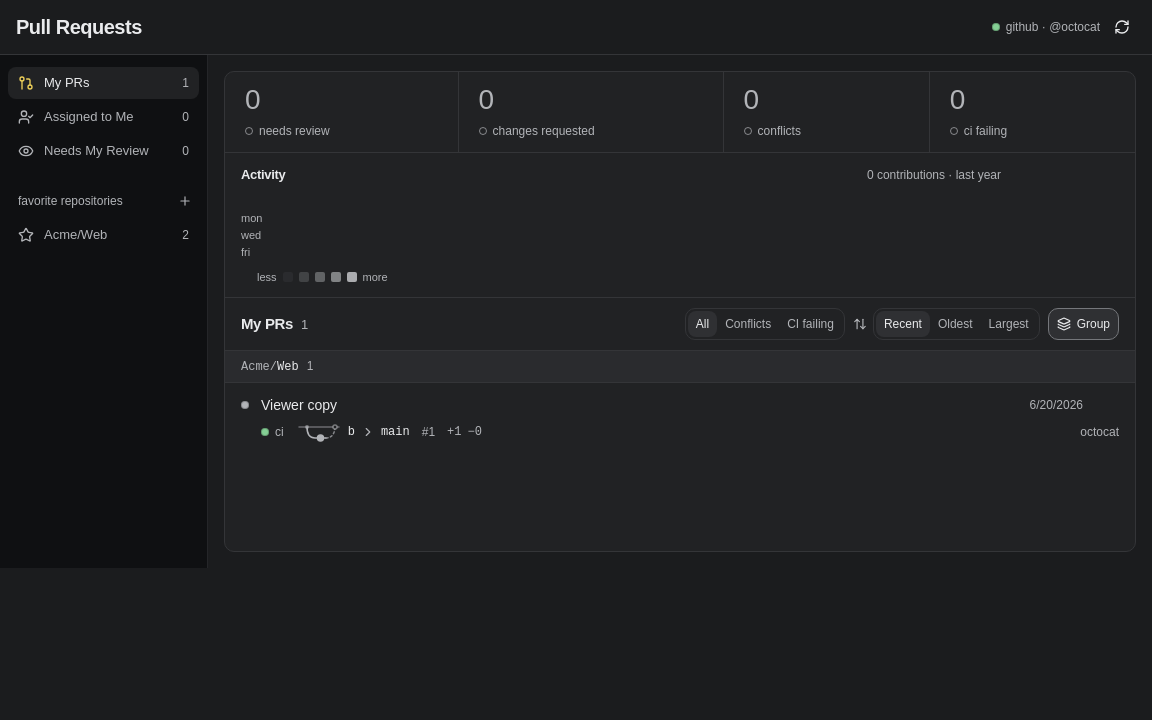
Scenario: PrsPage › selects a favorite repository and shows all rows in its repository scope
Click the button "Acme/Web 2": [104, 235] box left=8, top=219, right=199, bottom=251
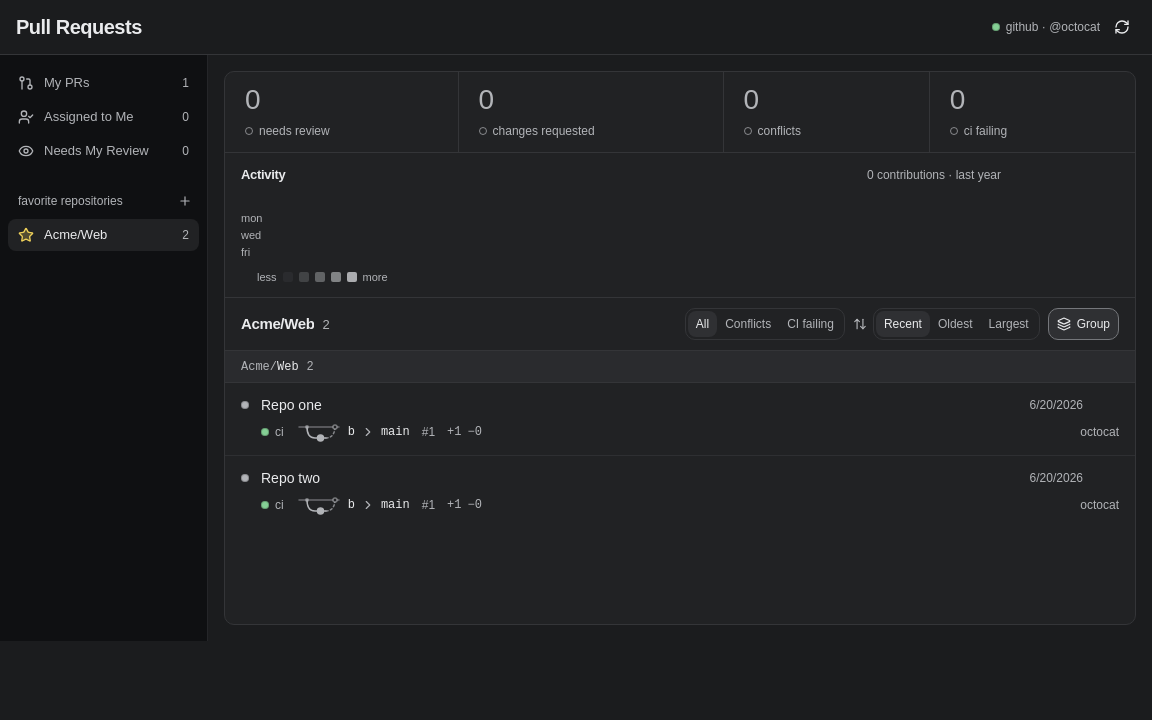
expect the text "Repo one" is shown: met, box left=261, top=394, right=322, bottom=416
expect the text "Repo two" is shown: met, box left=261, top=468, right=320, bottom=488
expect the text "Viewer copy" is gone: met
